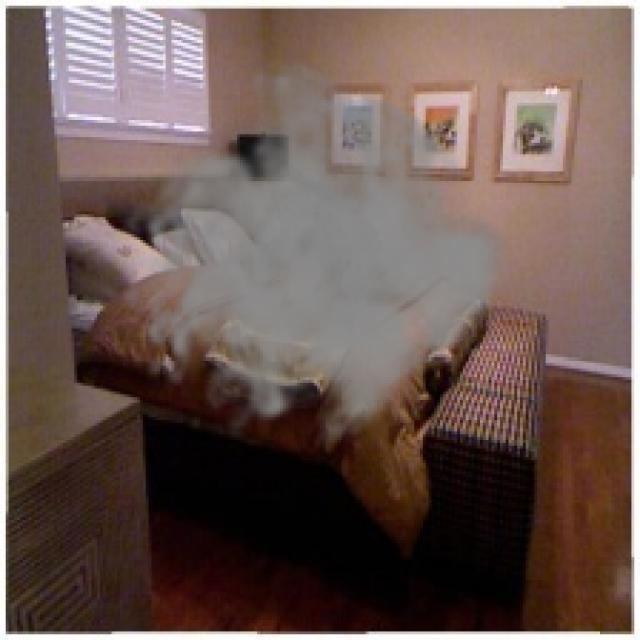Smoke: (120, 54, 512, 460)
